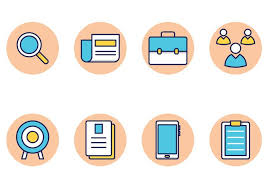searchIcon: (16, 30, 49, 65)
